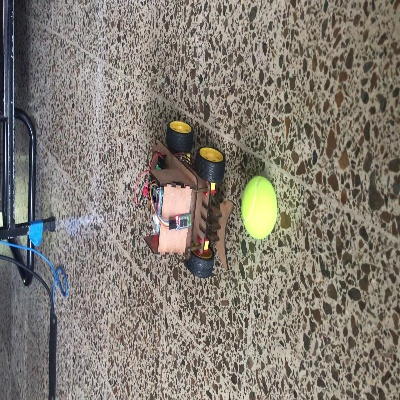Ball: (240, 175, 277, 240)
Robot: (142, 121, 235, 277)
